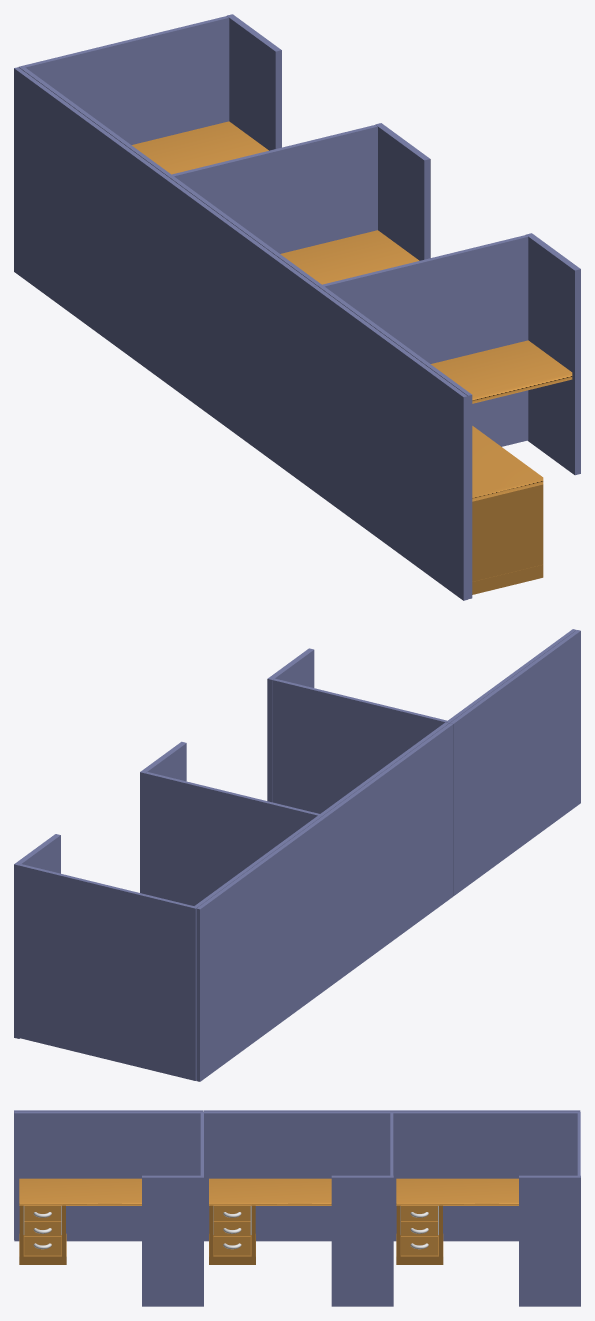
The model's file is office cubicles.glb.
The picture shows the model from 3 angles, top to bottom: view 1: azimuth 30°, elevation 25°; view 2: azimuth 150°, elevation 25°; view 3: azimuth 270°, elevation 25°; orthographic projection. The views are drawn at different scales.
Parts seen in each view (by area): view 1: Cube.055, Cube.043, Cube.014, Cube.013, Cube.042, Cube.015, Cube.010, Cube.001, Cube.018, Cube.039, Cube.009, Cube.019 (+6 smaller); view 2: Cube.042, Cube.043, Cube.055, Cube.014, Cube.013, Cube.015, Cube.039, Cube.010, Cube.018, Cube.029, Cube.028, Cube; view 3: Cube, Cube.028, Cube.029, Cube.018, Cube.010, Cube.039, Cube.005, Cube.023, Cube.034, Cube.006, Cube.022, Cube.035 (+12 smaller).
Part boxes in pixels (bbox=[...]): Cube.055: bbox=[313, 286, 467, 600]; Cube.043: bbox=[14, 67, 168, 381]; Cube.014: bbox=[163, 176, 316, 490]; Cube.013: bbox=[320, 235, 528, 446]; Cube.042: bbox=[22, 16, 229, 144]; Cube.015: bbox=[169, 125, 377, 253]; Cube.010: bbox=[526, 233, 580, 475]; Cube.001: bbox=[472, 484, 543, 581]; Cube.018: bbox=[375, 123, 430, 260]; Cube.039: bbox=[227, 14, 281, 150]; Cube.009: bbox=[431, 340, 572, 403]; Cube.019: bbox=[280, 230, 419, 284]; Cube.042: bbox=[19, 864, 194, 1080]; Cube.043: bbox=[196, 816, 327, 1081]; Cube.055: bbox=[450, 630, 580, 896]; Cube.014: bbox=[323, 723, 453, 989]; Cube.013: bbox=[273, 678, 449, 813]; Cube.015: bbox=[145, 772, 321, 905]; Cube.039: bbox=[14, 834, 60, 1038]; Cube.010: bbox=[267, 648, 314, 802]; Cube.018: bbox=[140, 741, 186, 893]; Cube.029: bbox=[192, 815, 321, 1080]; Cube.028: bbox=[318, 722, 448, 816]; Cube: bbox=[448, 629, 576, 723]; Cube: bbox=[14, 1112, 203, 1241]; Cube.028: bbox=[204, 1112, 393, 1241]; Cube.029: bbox=[393, 1112, 580, 1241]; Cube.018: bbox=[331, 1175, 393, 1306]; Cube.010: bbox=[142, 1175, 203, 1306]; Cube.039: bbox=[519, 1175, 580, 1306]; Cube.005: bbox=[19, 1178, 141, 1205]; Cube.023: bbox=[209, 1178, 331, 1205]; Cube.034: bbox=[396, 1178, 518, 1205]; Cube.006: bbox=[24, 1236, 61, 1255]; Cube.022: bbox=[213, 1236, 250, 1255]; Cube.035: bbox=[401, 1236, 437, 1255].
Size of the model in its own units: 5.67 by 5.06 by 20.17.
